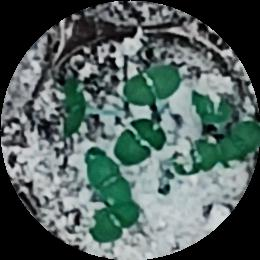Basil: (115, 117, 163, 164), (87, 154, 133, 203), (126, 66, 181, 103), (93, 201, 136, 242), (220, 119, 260, 159), (186, 141, 234, 172), (65, 80, 86, 131)
